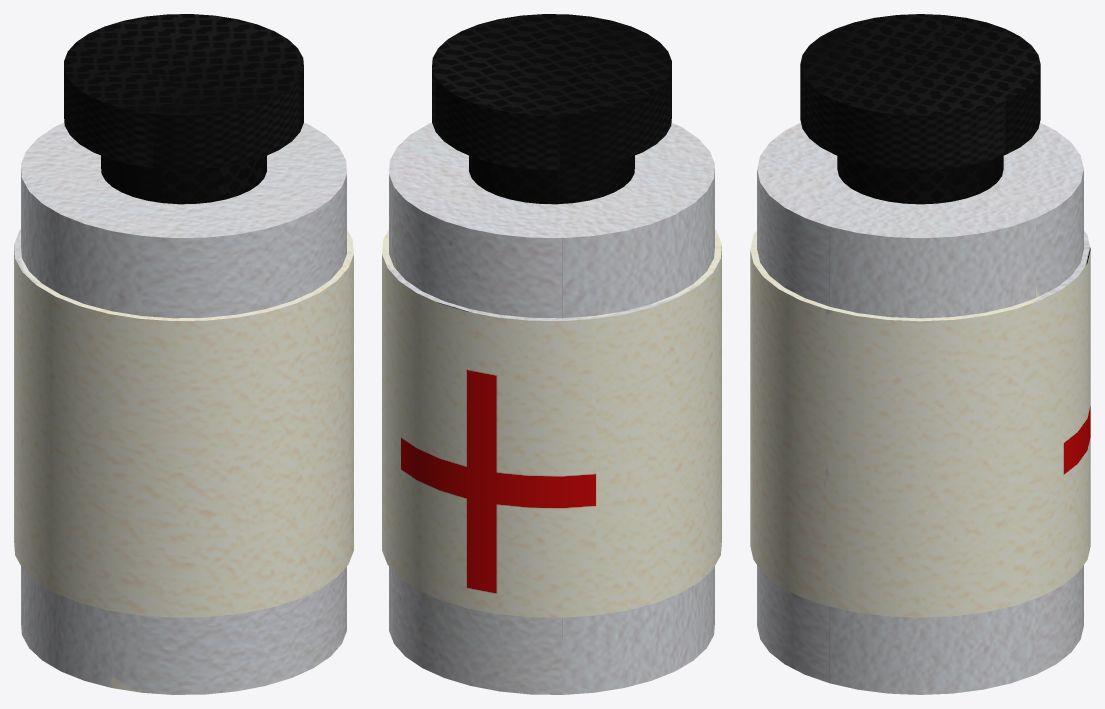
File: medicine.glb
3 renders of one model, left to right at view 1: azimuth 30°, elevation 25°; view 2: azimuth 150°, elevation 25°; view 3: azimuth 270°, elevation 25°, orthographic.
Visible parts, largest first — view 1: Cylinder; view 2: Cylinder; view 3: Cylinder.
Part boxes in pixels (x1=…): Cylinder: x1=14, y1=14, x2=353, y2=694; Cylinder: x1=382, y1=14, x2=721, y2=694; Cylinder: x1=750, y1=14, x2=1090, y2=694.
Size of the model in its own units: 1.7 by 3.09 by 1.7.
Materials: 1 (1 with a texture image).
